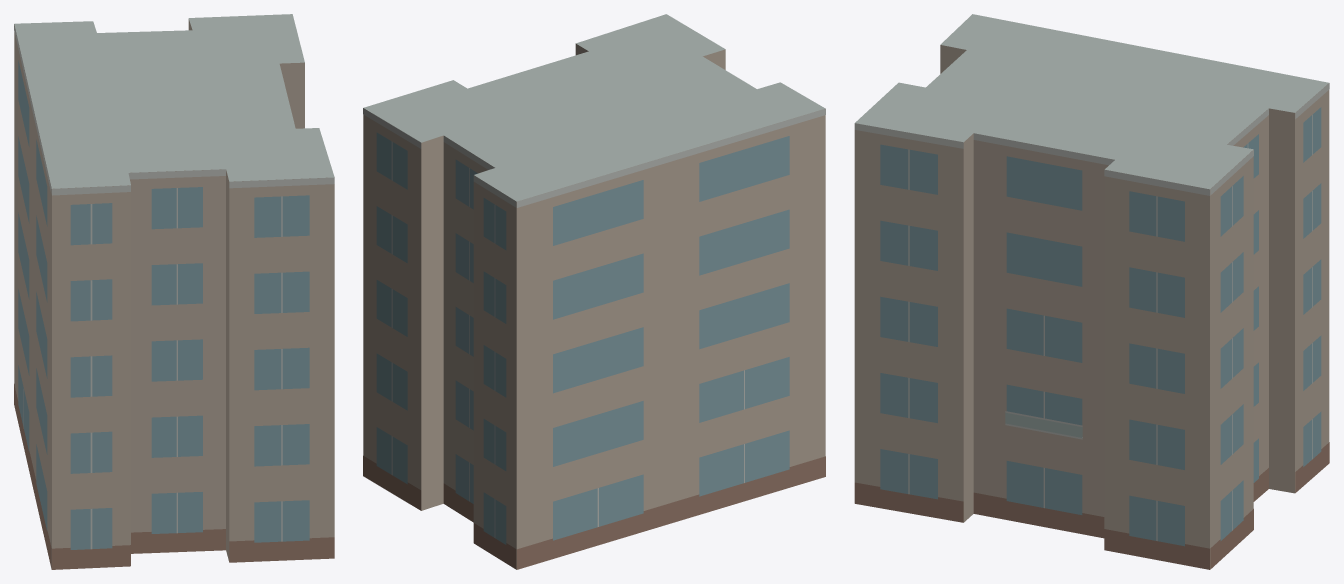
The model's file is survey-upis-32921923.glb.
The picture shows the model from 3 angles, left to right: view 1: azimuth 30°, elevation 25°; view 2: azimuth 150°, elevation 25°; view 3: azimuth 270°, elevation 25°; orthographic projection. The views are drawn at different scales.
Visible parts, largest first — view 1: survey-upis-32921923.tmp; view 2: survey-upis-32921923.tmp; view 3: survey-upis-32921923.tmp.
Boxes of the visible parts, <box> form: survey-upis-32921923.tmp: <box>14,14,334,569</box>; survey-upis-32921923.tmp: <box>363,14,825,569</box>; survey-upis-32921923.tmp: <box>854,14,1329,569</box>.
Bounding box in the file's own units: 13.74 × 13.9 × 15.73.
